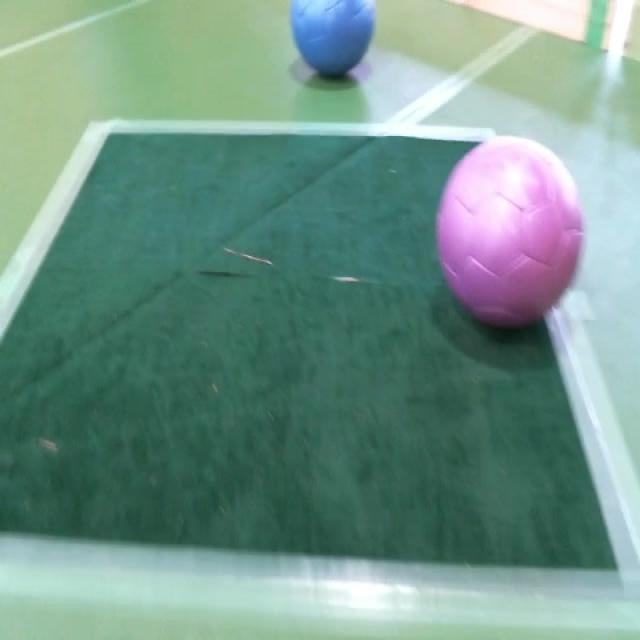blue_ball: (292, 0, 377, 80)
purple_ball: (432, 137, 586, 330)
